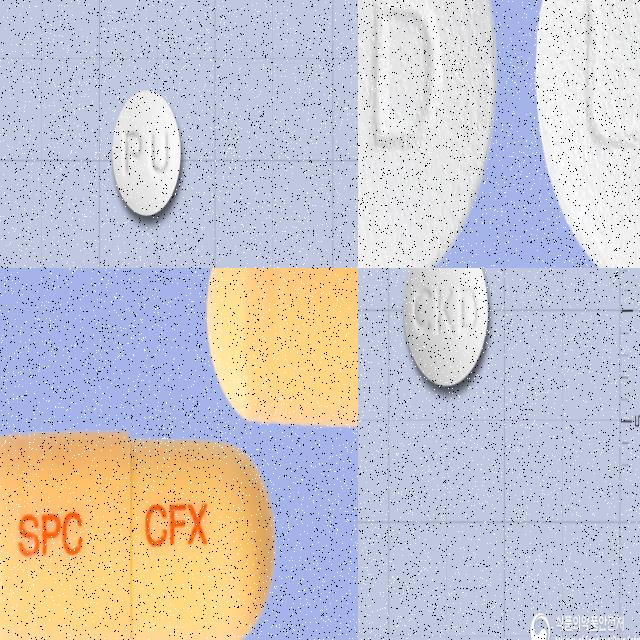Levofexin - 250mg: (358, 0, 495, 268), (537, 0, 640, 268)
Rheumakin Tab-20mg: (112, 88, 183, 217)
Rithcinn Tab: (403, 268, 489, 387)
Septrin: (0, 431, 276, 640), (205, 268, 358, 430)
